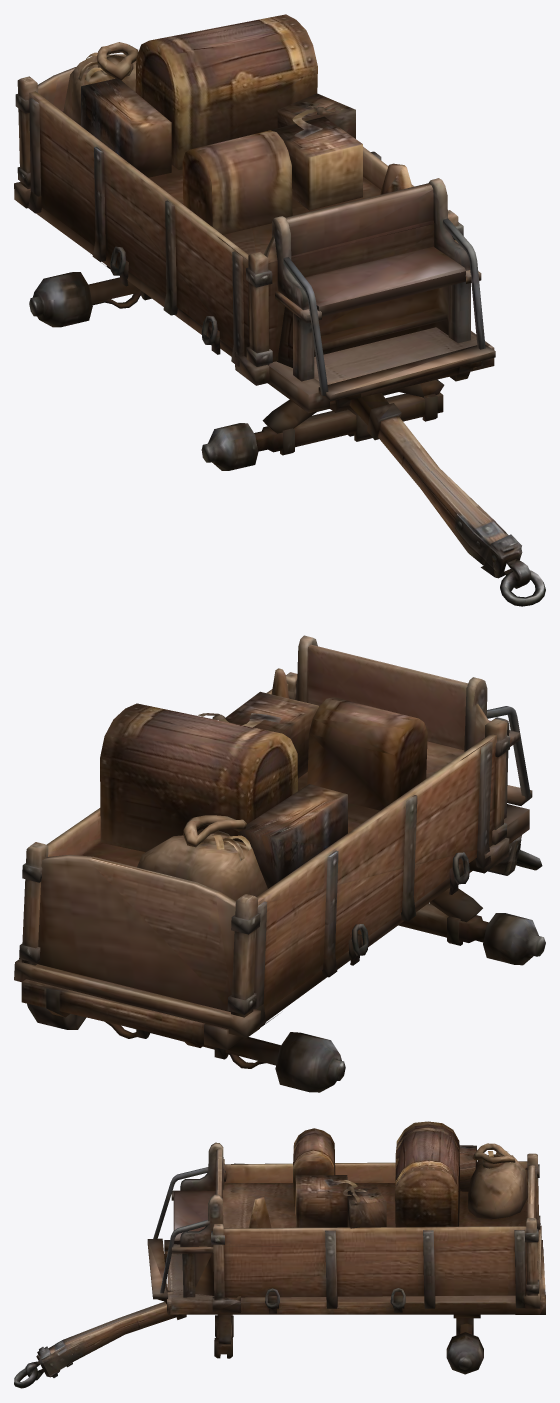
The model's file is freight.glb.
3 views of the same model, one above another, from view 1: azimuth 30°, elevation 25°; view 2: azimuth 150°, elevation 25°; view 3: azimuth 270°, elevation 25° (orthographic). The views are drawn at different scales.
Visible parts, largest first — view 1: body, tongue; view 2: body, tongue; view 3: body, tongue.
Part boxes in pixels (box(x1,y1,x2,y2)): body: box(14, 14, 495, 470); tongue: box(349, 393, 545, 606); body: box(14, 635, 545, 1092); tongue: box(488, 835, 542, 875); body: box(147, 1121, 545, 1374); tongue: box(14, 1301, 175, 1388).
Size of the model in its own units: 1.97 by 2.24 by 4.47.
1 material, 1 textured.
